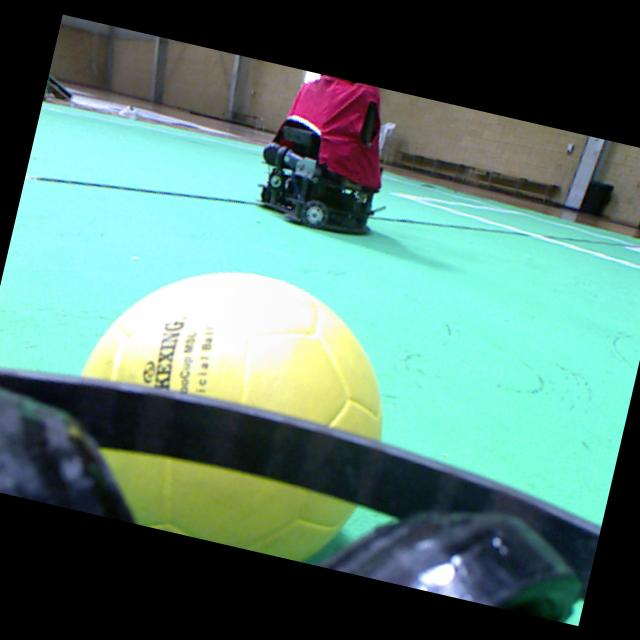ball: (82, 272, 380, 439), (148, 523, 188, 535)
